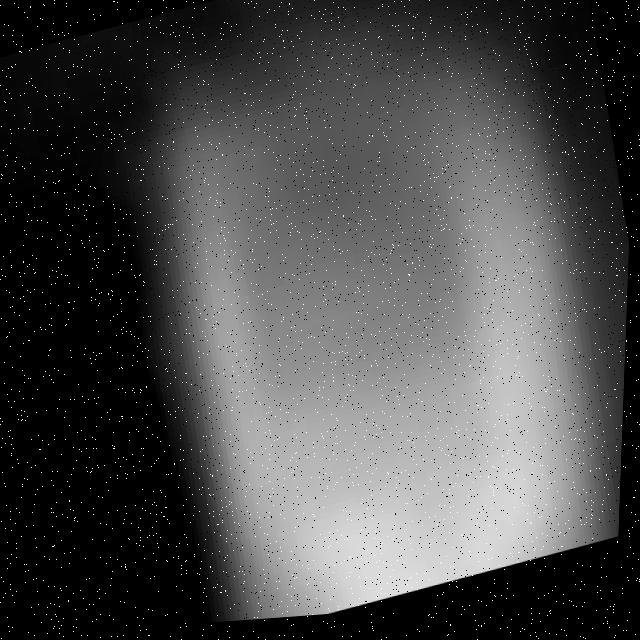person: (107, 34, 631, 634)
